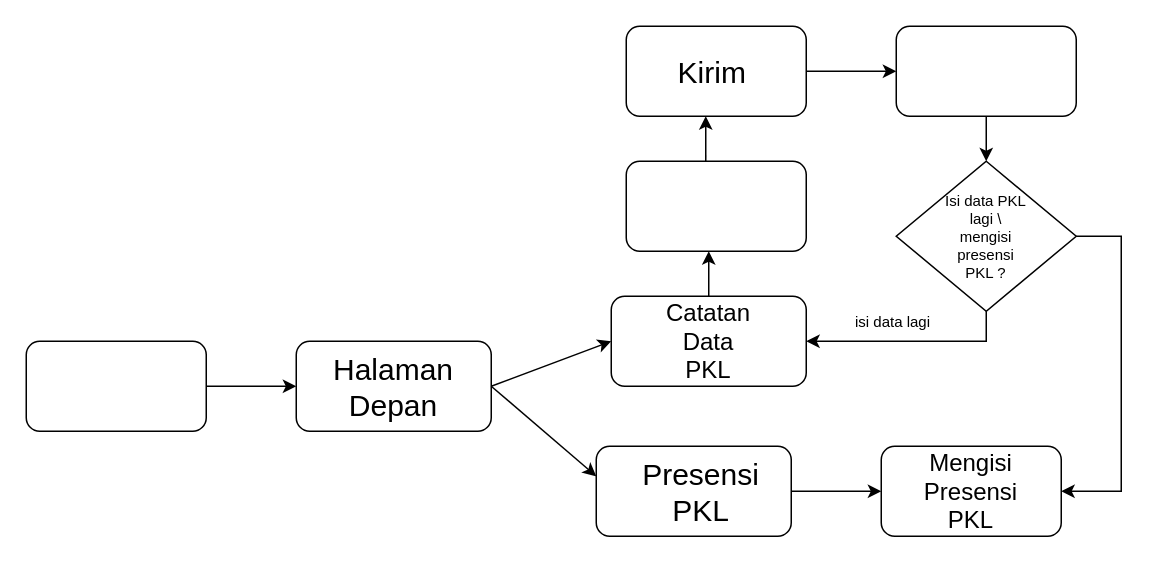
This 1160x563 diagram has some shape labels left out. Each missing label, with the centre of its shape:
Isi Data PKL: the point at 715,205
Riwayat Data PKL: the point at 985,70
User: the point at 115,385
